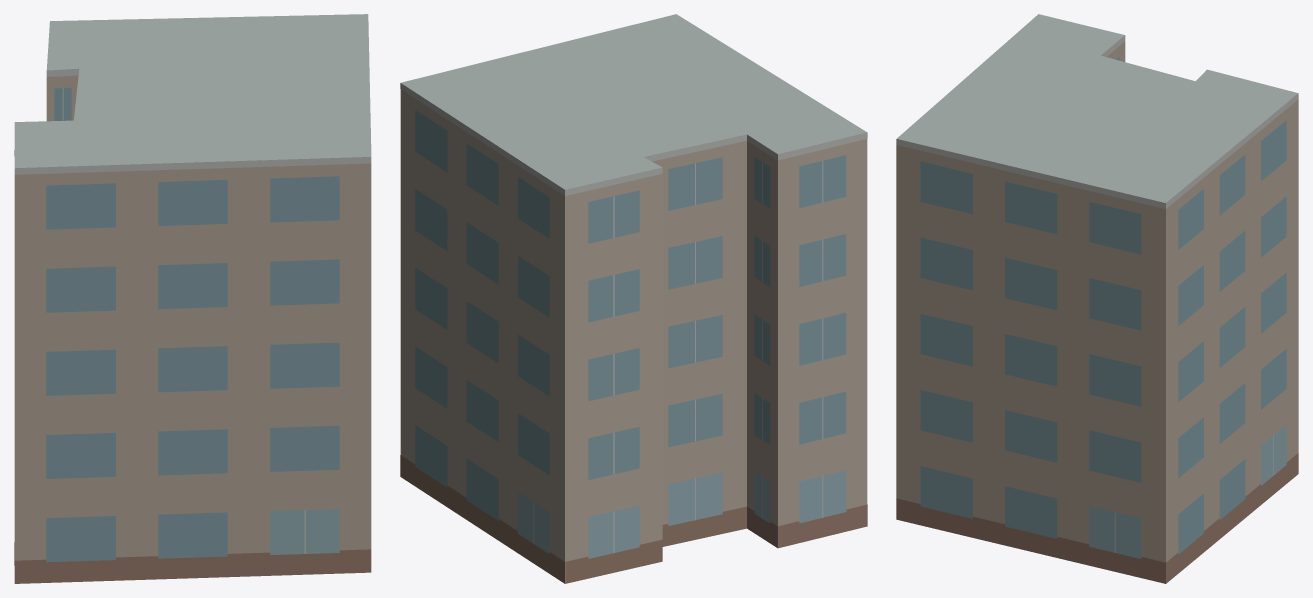
The model's file is survey-upis-32776680.glb.
The picture shows the model from 3 angles, left to right: view 1: azimuth 30°, elevation 25°; view 2: azimuth 150°, elevation 25°; view 3: azimuth 270°, elevation 25°; orthographic projection. The views are drawn at different scales.
Parts seen in each view (by area): view 1: survey-upis-32776680.tmp; view 2: survey-upis-32776680.tmp; view 3: survey-upis-32776680.tmp.
Part boxes in pixels (x1,y1,x2,y2): survey-upis-32776680.tmp: (14, 14, 371, 583); survey-upis-32776680.tmp: (400, 14, 867, 583); survey-upis-32776680.tmp: (896, 14, 1298, 583).
Size of the model in its own units: 16.41 by 15.4 by 14.75.
